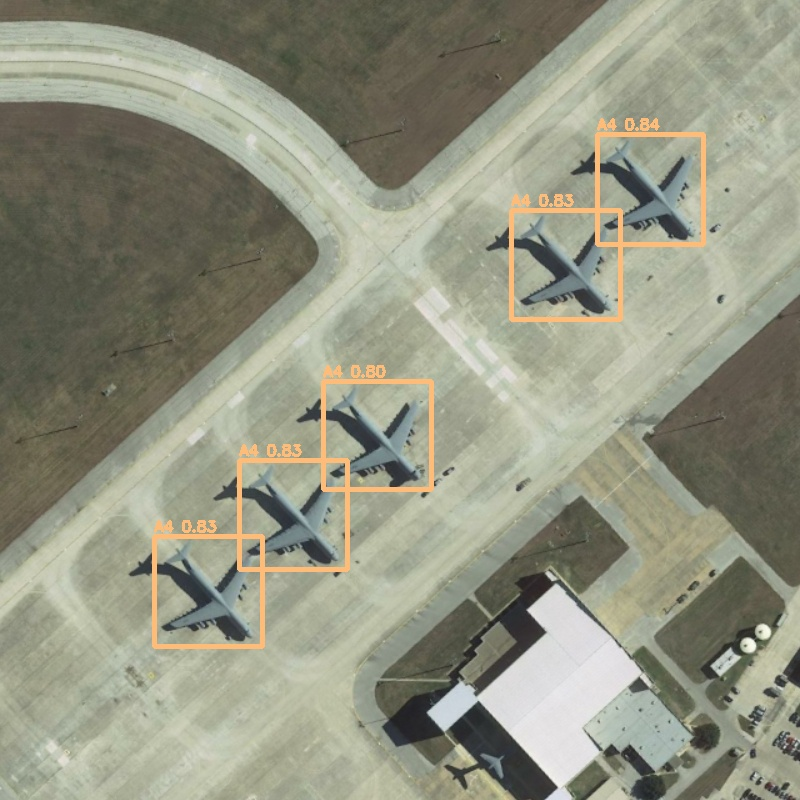A4: (511, 210, 620, 319), (154, 536, 262, 646), (239, 460, 347, 569), (323, 381, 431, 489), (597, 134, 703, 244)
